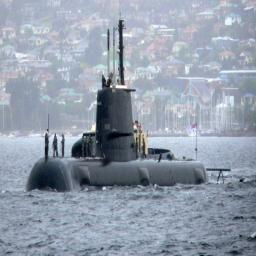submarine: (25, 21, 232, 197)
